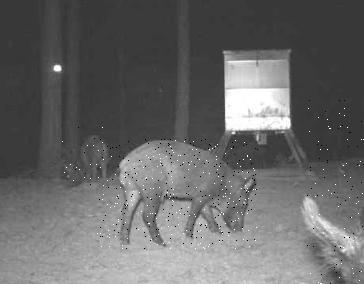Hog: (96, 139, 258, 249), (307, 99, 364, 284), (62, 127, 110, 191)
